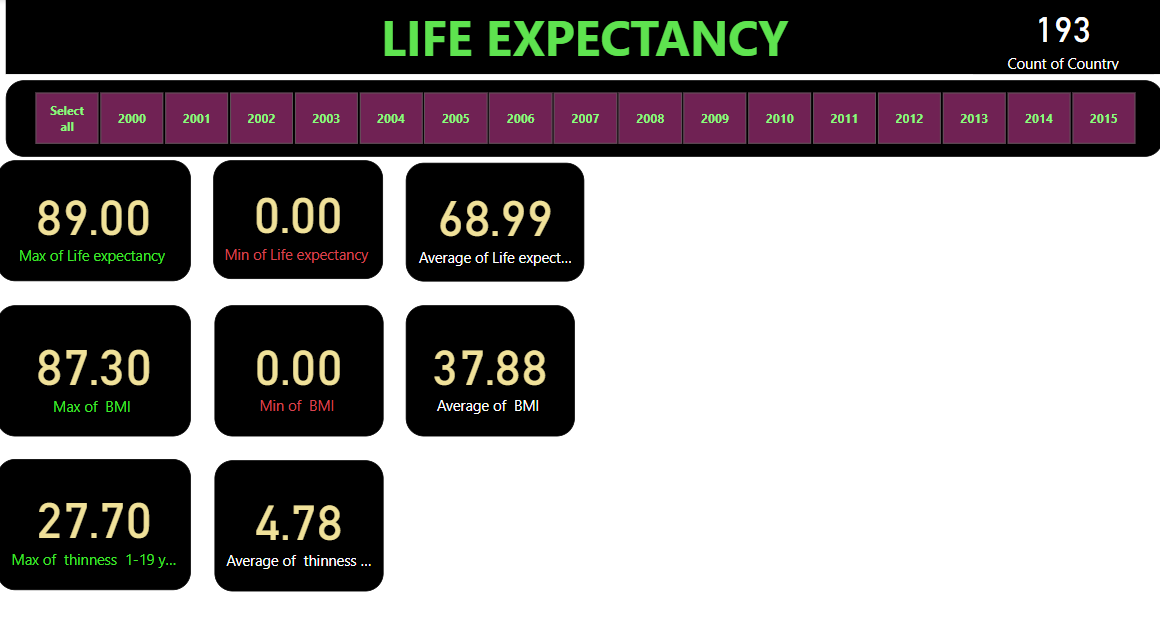

What the dashboard file says about the page in this screenshot:
{"tool":"powerbi","page":{"name":"Page 1","canvas":[1280,720],"ordinal":0},"visuals":[{"type":"textbox","box":[9.6,0,1270.7,82.3],"z":0},{"type":"slicer","fields":{"Values":["Life Expectancy Data.Year"]},"box":[9.6,89.2,1270.7,83.7],"z":1000},{"type":"card","fields":{"Values":["Max(Life Expectancy Data.Life expectancy )"]},"box":[0,177,212.7,133.1],"z":2000},{"type":"card","fields":{"Values":["Avg(Life Expectancy Data.Life expectancy )"]},"box":[448.7,179.8,196.2,130.4],"z":3000},{"type":"card","fields":{"Values":["Min(Life Expectancy Data.Life expectancy )"]},"box":[237.4,177,186.6,130.4],"z":4000},{"type":"card","fields":{"Values":["Count(Life Expectancy Data.Country)"]},"box":[1071.7,0,197.6,82.3],"z":5000},{"type":"card","fields":{"Values":["Max(Life Expectancy Data. BMI )"]},"box":[0,336.2,212.7,144.1],"z":6000},{"type":"card","fields":{"Values":["Min(Life Expectancy Data. BMI )"]},"box":[238.8,336.2,185.2,144.1],"z":7000},{"type":"card","fields":{"Values":["Max(Life Expectancy Data. thinness  1-19 years)"]},"box":[0,505,212.7,144.1],"z":8000},{"type":"card","fields":{"Values":["Avg(Life Expectancy Data. thinness  1-19 years)"]},"box":[238.8,506.3,185.2,144.1],"z":9000},{"type":"card","fields":{"Values":["Avg(Life Expectancy Data. BMI )"]},"box":[448.7,336.2,185.2,144.1],"z":9001}]}

Visuals, with their boxes in screenshot pixels (x1, y1, x2, y2):
textbox: 9,0,1137,73
slicer - Life Expectancy Data.Year: 9,79,1137,154
card - Max(Life Expectancy Data.Life expectancy ): 0,157,189,275
card - Avg(Life Expectancy Data.Life expectancy ): 398,160,573,275
card - Min(Life Expectancy Data.Life expectancy ): 211,157,376,273
card - Count(Life Expectancy Data.Country): 952,0,1127,73
card - Max(Life Expectancy Data. BMI ): 0,299,189,426
card - Min(Life Expectancy Data. BMI ): 212,299,376,426
card - Max(Life Expectancy Data. thinness  1-19 years): 0,448,189,576
card - Avg(Life Expectancy Data. thinness  1-19 years): 212,450,376,578
card - Avg(Life Expectancy Data. BMI ): 398,299,563,426
